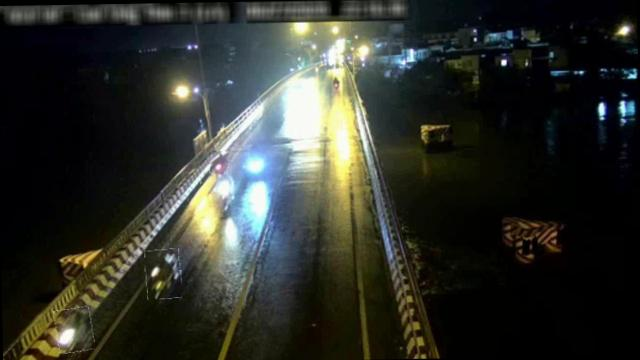Bike: (145, 248, 182, 299), (55, 308, 94, 354), (210, 150, 229, 174)
